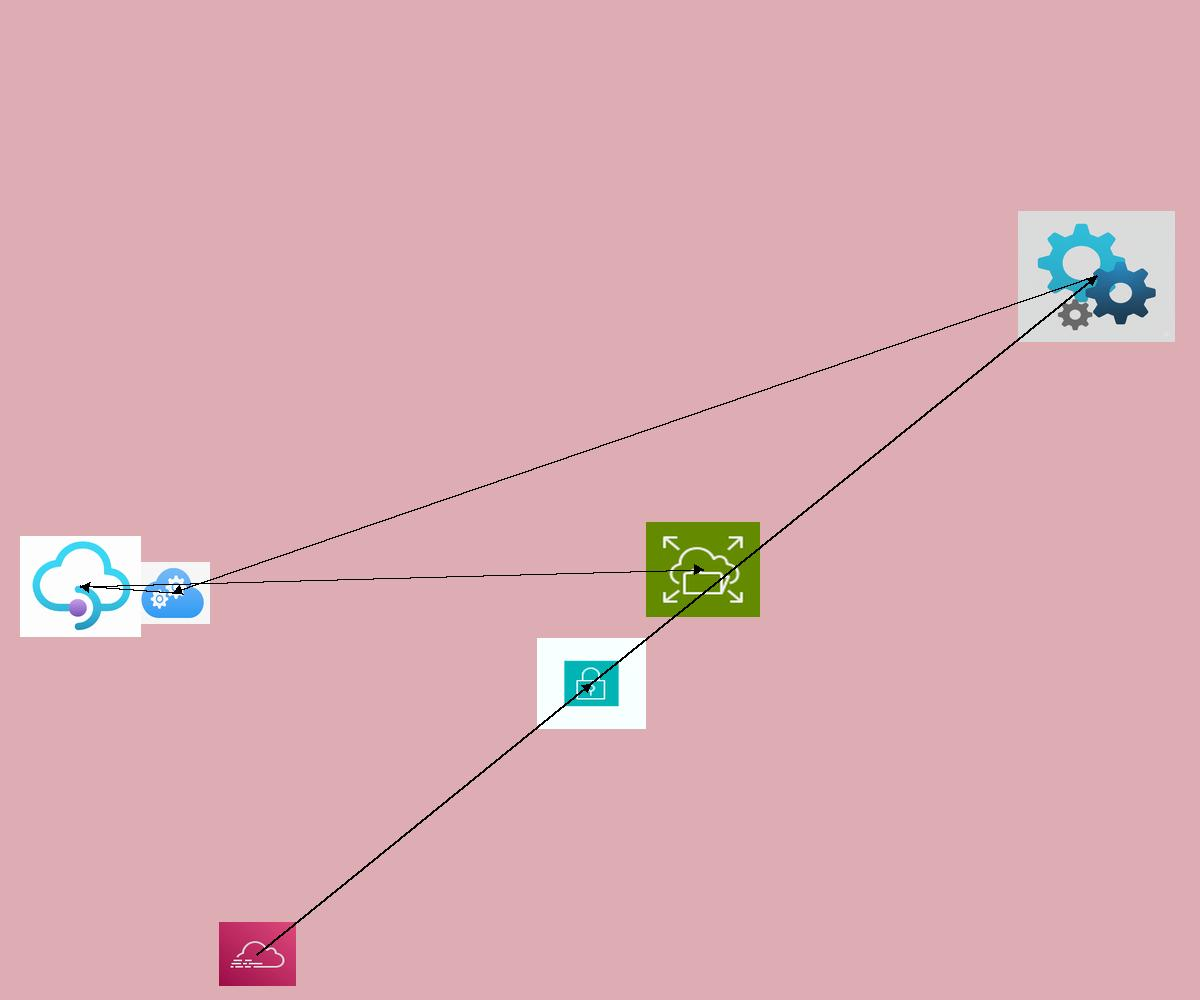AWS-CloudTrail: (219, 922, 296, 986)
AWS-EFS: (646, 522, 760, 617)
AWS-Private-subnet: (537, 638, 646, 729)
Azure_api: (1018, 211, 1175, 342)
Azure_api_gateway: (20, 536, 141, 637)
Azure_cloud_services: (135, 562, 210, 624)
